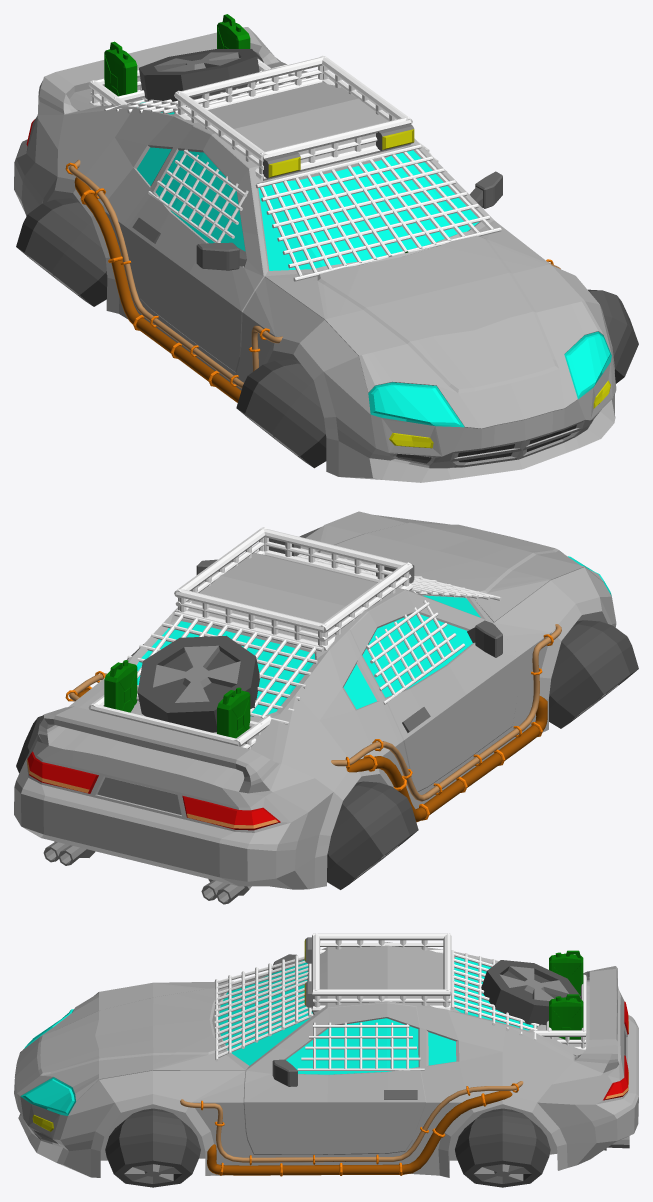
Rendered from SM_Player_Car_01.fbx.
The picture shows the model from 3 angles, top to bottom: view 1: azimuth 30°, elevation 25°; view 2: azimuth 150°, elevation 25°; view 3: azimuth 270°, elevation 25°; orthographic projection. The views are drawn at different scales.
Visible parts, largest first — view 1: SM_Player_Car_01; view 2: SM_Player_Car_01; view 3: SM_Player_Car_01.
Part boxes in pixels (<box>): SM_Player_Car_01: <box>14,14,638,482</box>; SM_Player_Car_01: <box>14,511,638,904</box>; SM_Player_Car_01: <box>14,933,638,1187</box>.
Size of the model in its own units: 2.54 by 1.38 by 4.49.
